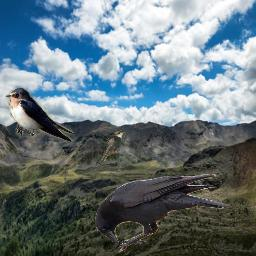Crow: (95, 174, 232, 254)
Cuckoo: (95, 130, 126, 166)
Swallow: (5, 86, 74, 144)
